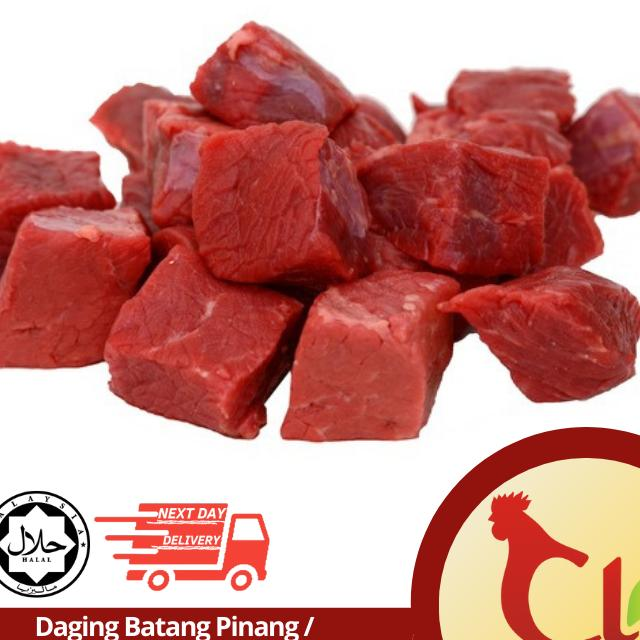beef: (0, 120, 188, 400), (270, 250, 513, 438), (163, 110, 391, 281), (89, 253, 272, 460), (174, 2, 392, 164), (431, 240, 640, 404), (428, 48, 592, 176), (545, 93, 640, 206)
